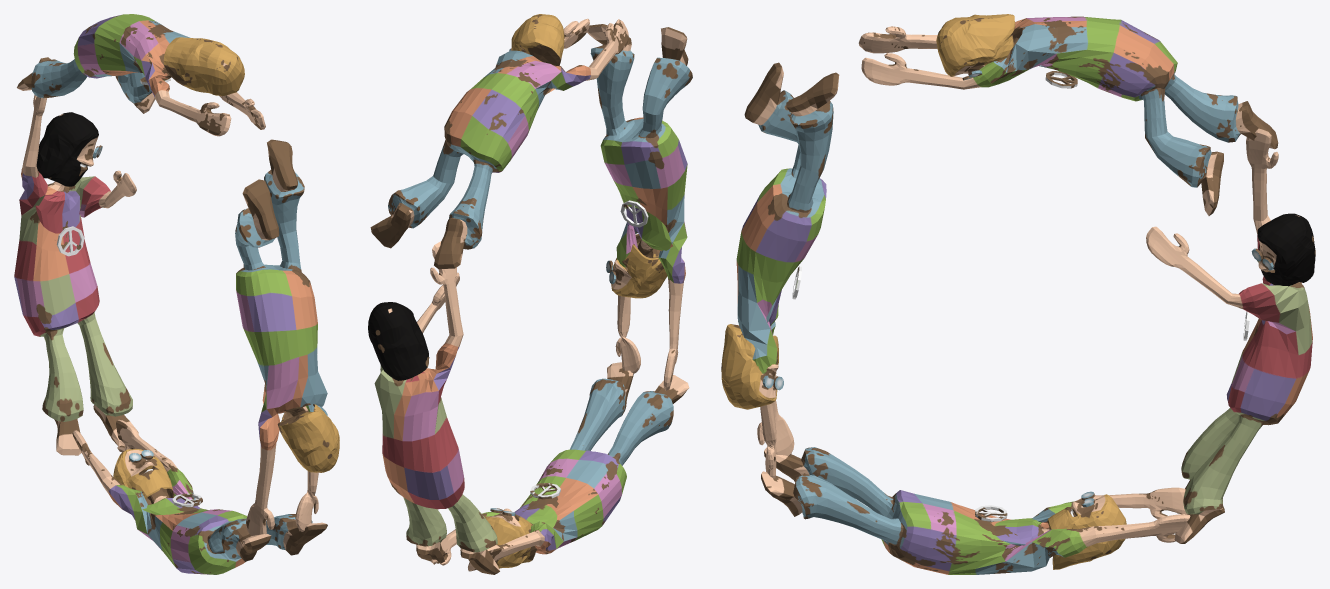
The model's file is PT_char_004.FBX.
3 renders of one model, left to right at view 1: azimuth 30°, elevation 25°; view 2: azimuth 150°, elevation 25°; view 3: azimuth 270°, elevation 25°, orthographic. The views are drawn at different scales.
Parts seen in each view (by area): view 1: Box020; view 2: Box020; view 3: Box020.
Boxes of the visible parts, x1=… form: Box020: x1=14, y1=14, x2=339, y2=574; Box020: x1=368, y1=14, x2=692, y2=574; Box020: x1=721, y1=14, x2=1315, y2=574.
Size of the model in its own units: 8.18 by 34.01 by 32.55.
Materials: 3 (3 with a texture image).
